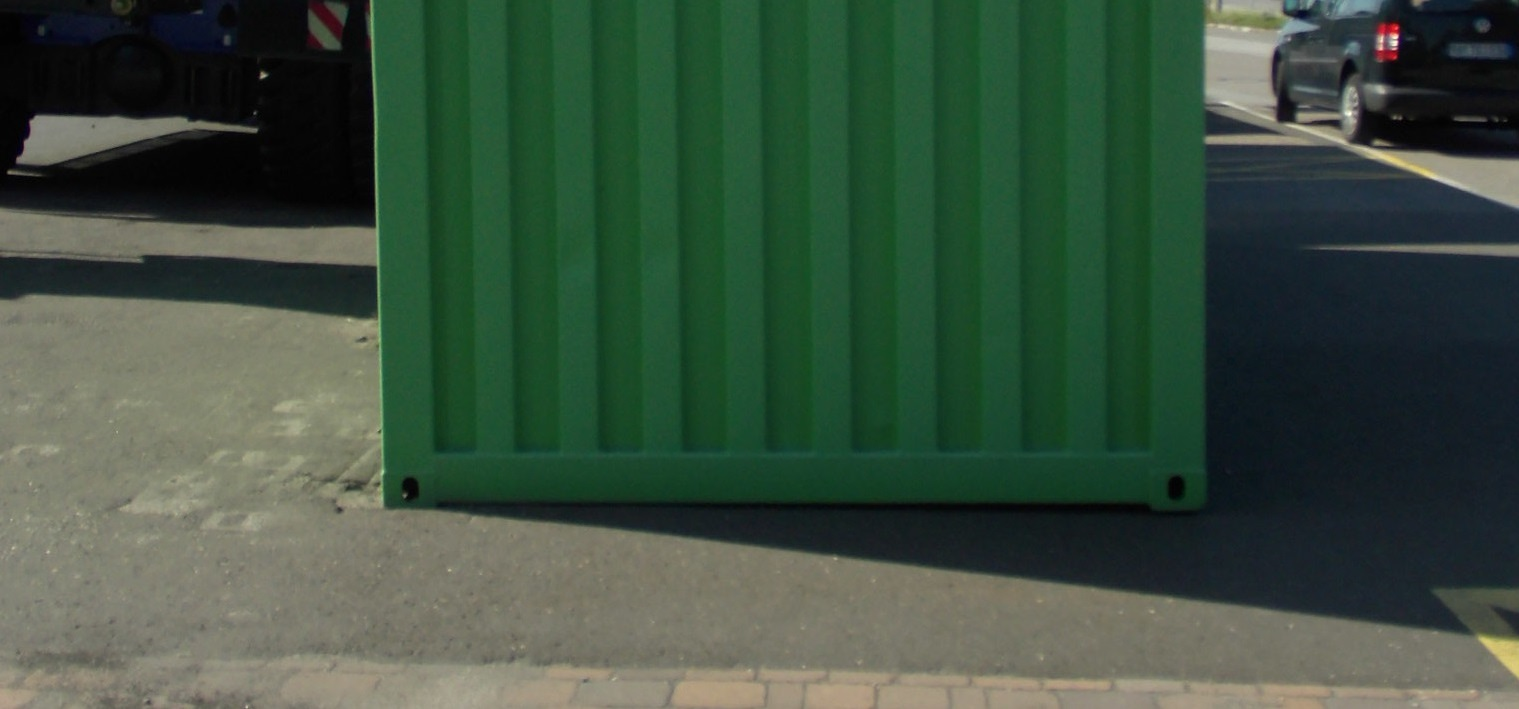container_no_door: (381, 7, 1215, 505)
